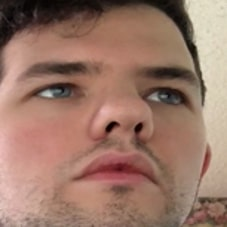awake: (19, 51, 202, 227)
